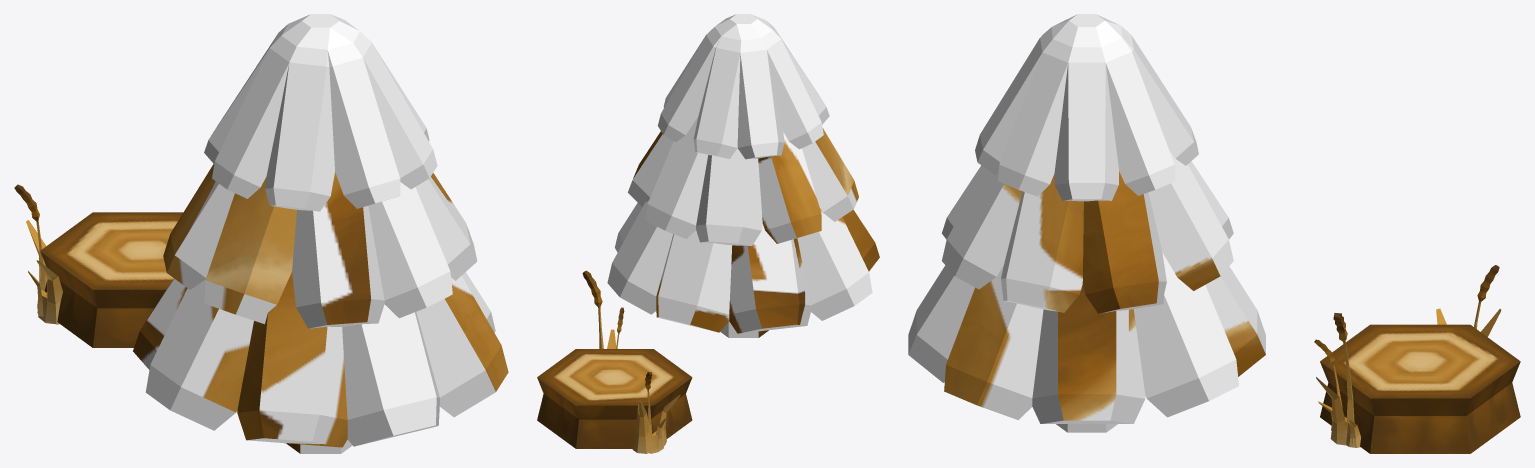
Rendered from pine_tree.obj.
The picture shows the model from 3 angles, left to right: view 1: azimuth 30°, elevation 25°; view 2: azimuth 150°, elevation 25°; view 3: azimuth 270°, elevation 25°; orthographic projection. The views are drawn at different scales.
Visible parts, largest first — view 1: pinetree_, log_Material.002, grass2_Material.005; view 2: pinetree_, log_Material.002, grass2_Material.005, grass1_Material.001; view 3: pinetree_, log_Material.002, grass1_Material.001, grass2_Material.005.
Part boxes in pixels (<box>): pinetree_: <box>133,14,508,453</box>; log_Material.002: <box>40,212,183,347</box>; grass2_Material.005: <box>14,184,62,324</box>; pinetree_: <box>607,14,879,337</box>; log_Material.002: <box>537,349,692,448</box>; grass2_Material.005: <box>632,372,680,453</box>; grass1_Material.001: <box>582,270,624,348</box>; pinetree_: <box>908,14,1265,432</box>; log_Material.002: <box>1320,324,1520,453</box>; grass1_Material.001: <box>1314,313,1360,447</box>; grass2_Material.005: <box>1436,265,1501,336</box>.
Bounding box in the file's own units: 3.31 × 4.09 × 5.66.
